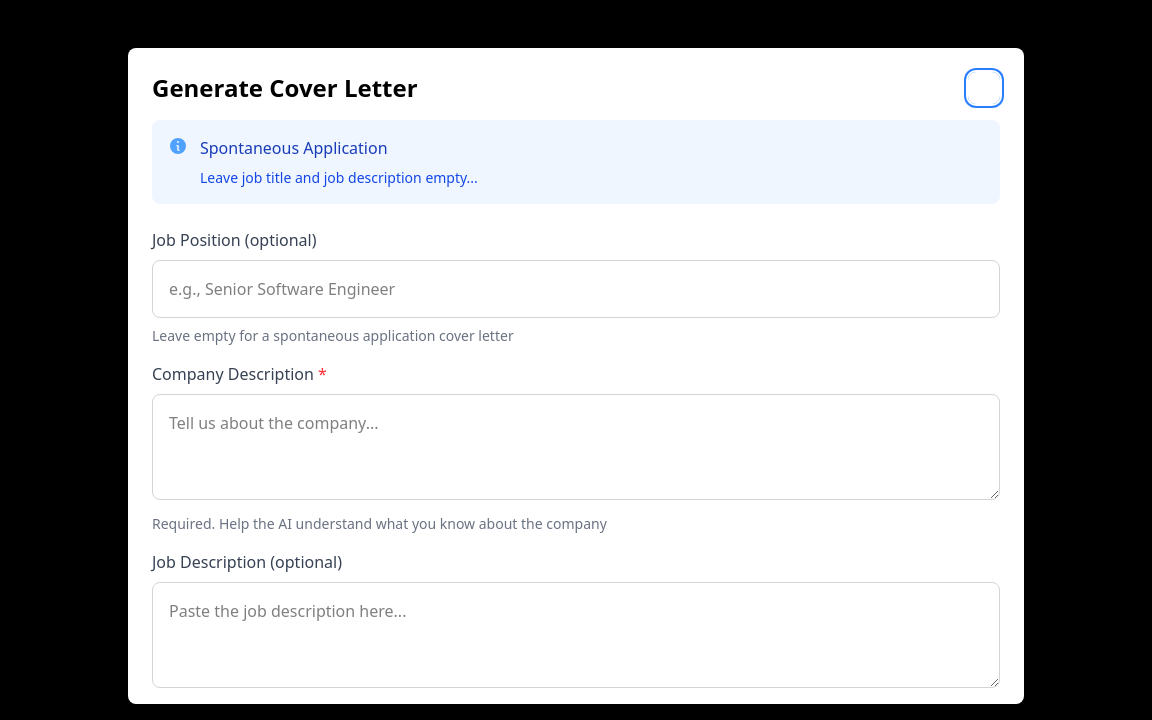
Cover Letter Error Handling › Server-side Error Handling › should display authentication error with helpful suggestion
Type "Test Company Description" into the text box with placeholder "Tell us about the company...". click: {"x": 576, "y": 447}
box: x1=152 y1=394 x2=1000 y2=500
(page scrolled)
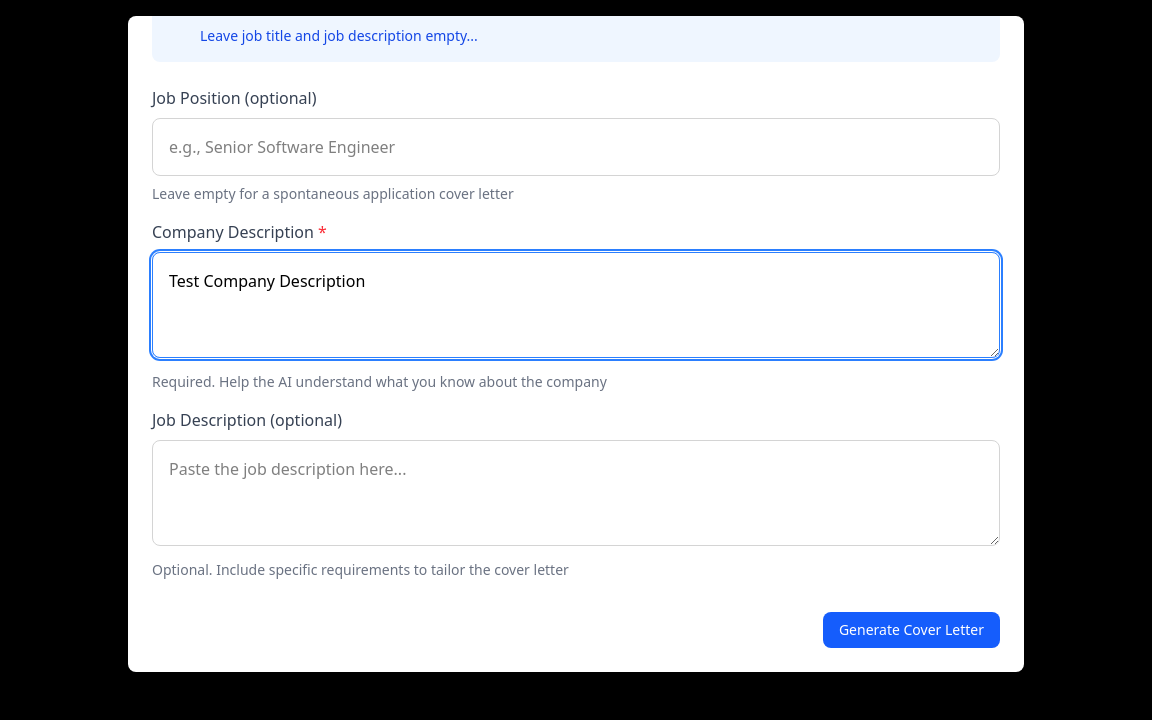
Click the button "Generate Cover Letter". click: {"x": 911, "y": 630}
box: x1=823 y1=612 x2=1000 y2=648
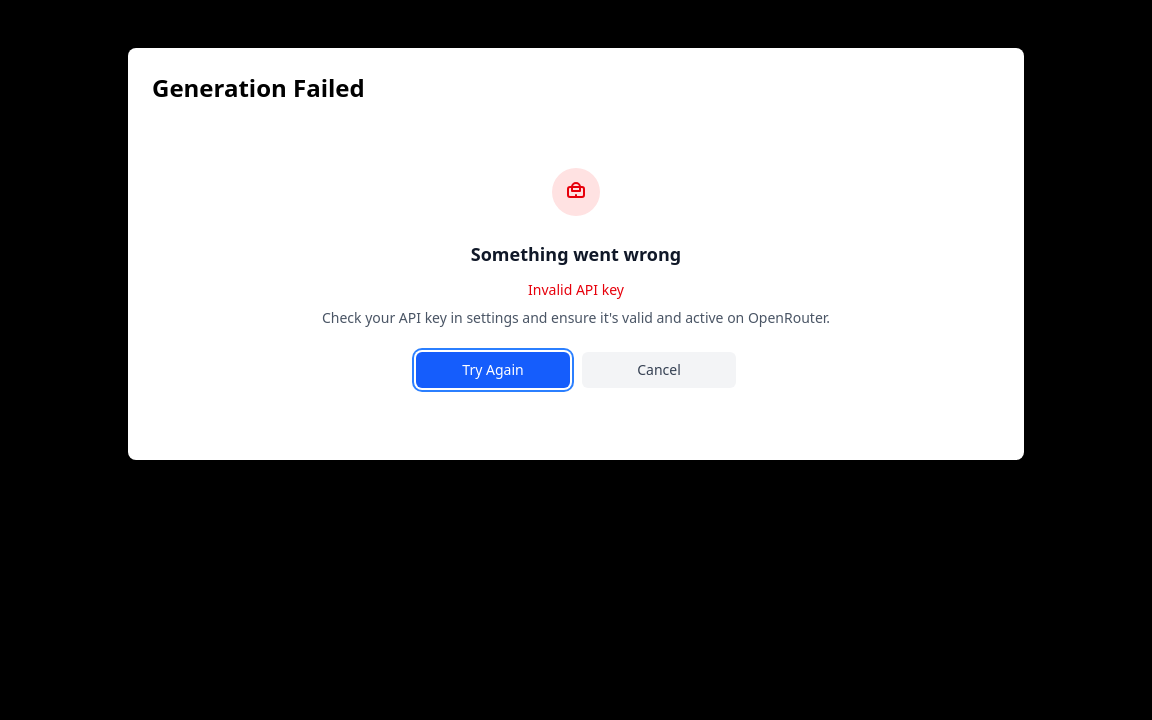
Now the heading "Something went wrong" is shown, box x1=471 y1=242 x2=681 y2=266
Now the text "Invalid API key" is shown, box x1=528 y1=280 x2=624 y2=299
Now the text "Check your API key in settings and ensure it's valid and active on OpenRouter." is shown, box x1=322 y1=308 x2=830 y2=328
